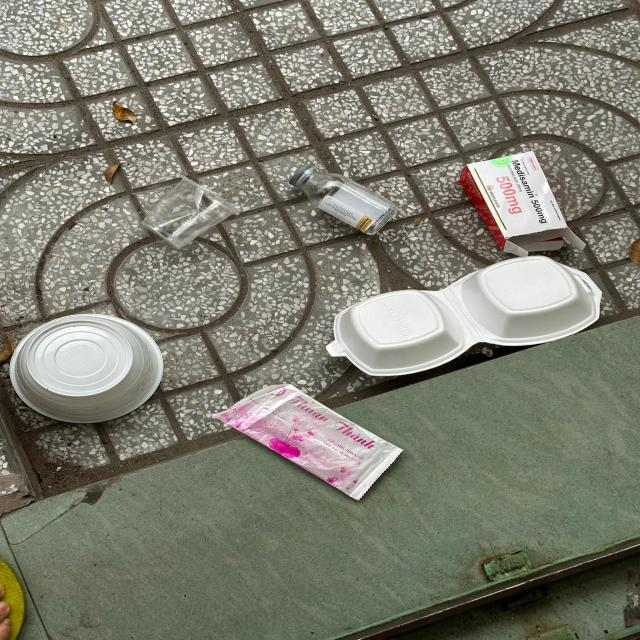bottle: (290, 163, 398, 236)
cardboard box: (459, 150, 586, 259)
foam box: (327, 255, 604, 378)
packet: (208, 385, 404, 499)
plastic glass: (142, 174, 240, 248)
plastic holder: (7, 312, 163, 426)
